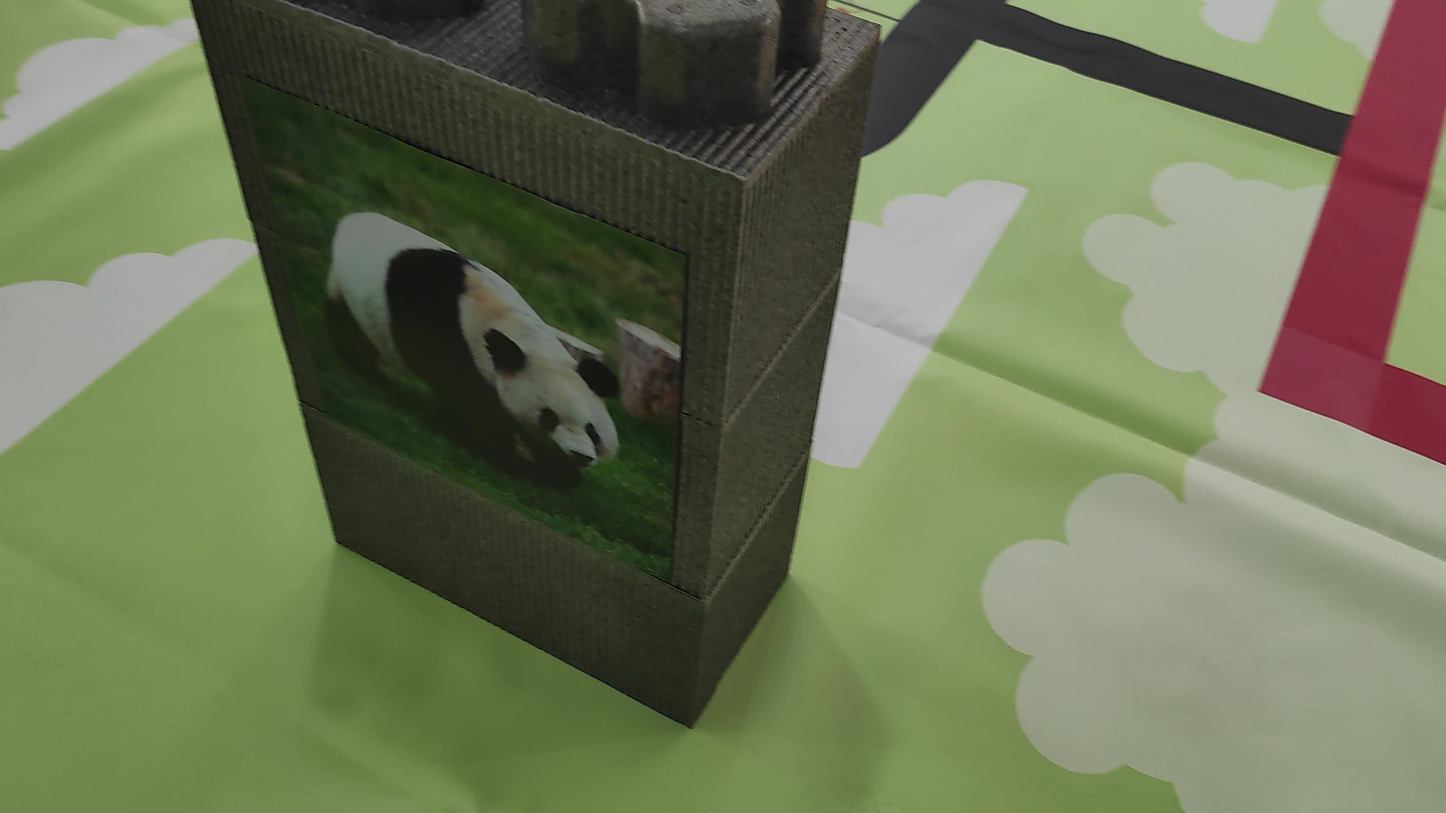panda: (288, 194, 639, 507)
